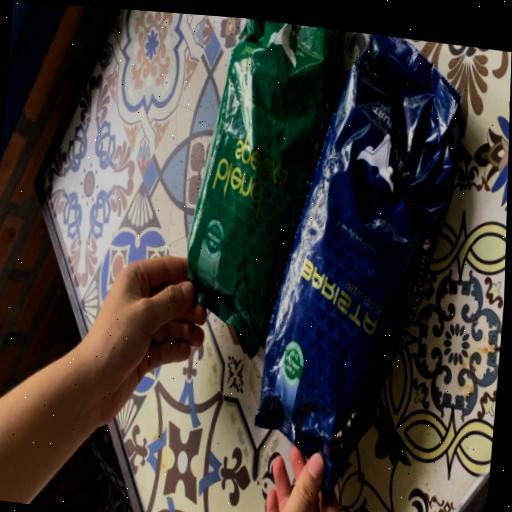cafe_hat: (255, 33, 462, 492)
cafe_xay: (188, 18, 343, 356)
